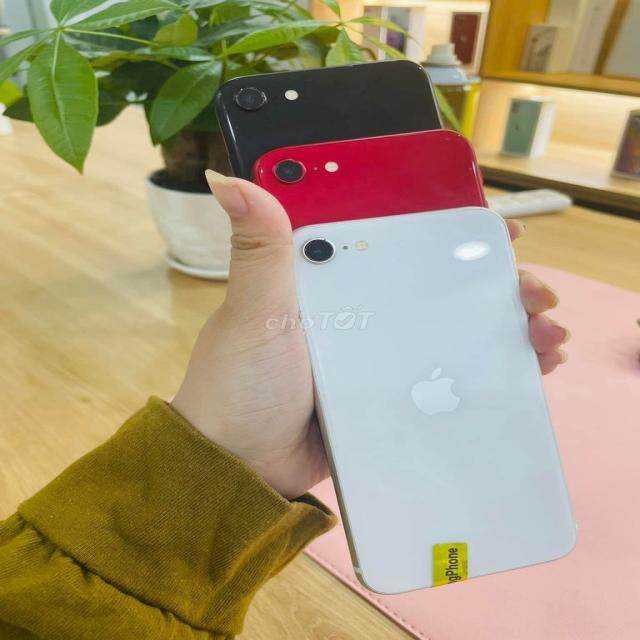gen_7_8: (290, 205, 593, 602)
